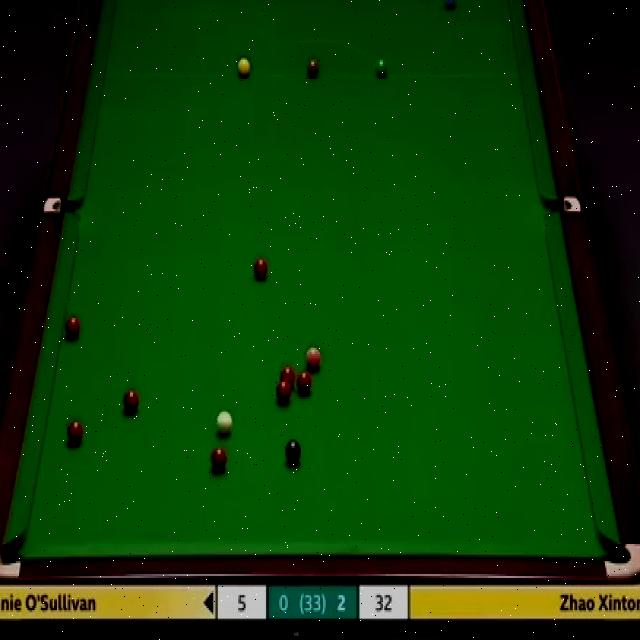black-ball: (284, 439, 302, 467)
blue-ball: (442, 0, 458, 11)
brown-ball: (306, 58, 321, 80)
green-ball: (374, 58, 389, 80)
pink-ball: (302, 347, 322, 372)
red-ball: (66, 418, 84, 448), (210, 445, 228, 473), (122, 390, 140, 418), (252, 256, 270, 282), (275, 380, 292, 406), (295, 370, 313, 394), (64, 314, 80, 340), (279, 366, 296, 388)
white-ball: (214, 408, 234, 435)
yellow-ball: (237, 57, 251, 79)
